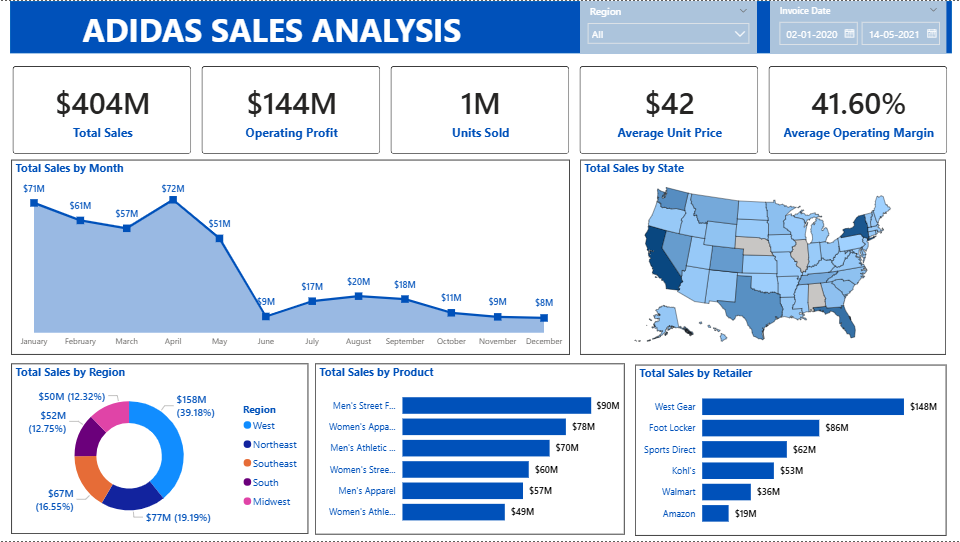

This screenshot's page, from the dashboard's own definition file:
{"tool":"powerbi","page":{"name":"Page 1","canvas":[1280,720],"ordinal":0},"visuals":[{"type":"shape","box":[12.9,0,1255.7,70],"z":0},{"type":"textbox","box":[105.7,2.9,561.4,67.1],"z":1000},{"type":"cardVisual","fields":{"Data":["Sum(Data Sales Adidas.Total Sales)","Sum(Data Sales Adidas.Operating Profit)","Sum(Data Sales Adidas.Units Sold)","Avg(Data Sales Adidas.Price per Unit)","Avg(Data Sales Adidas.Operating Margin)"]},"box":[0,70,1280,151.4],"z":2000},{"type":"areaChart","title":"Total Sales by Month","fields":{"Category":["Data Sales Adidas.Invoice Date.Variation.Date Hierarchy.Month"],"Y":["Sum(Data Sales Adidas.Total Sales)"]},"box":[14.5,211.8,744.5,260],"z":3000},{"type":"shapeMap","title":"Total Sales by State","fields":{"Category":["Data Sales Adidas.State"],"Value":["Sum(Data Sales Adidas.Total Sales)"]},"box":[774,212,488,260],"z":4000},{"type":"donutChart","fields":{"Category":["Data Sales Adidas.Region"],"Y":["Sum(Data Sales Adidas.Total Sales)"]},"box":[14.9,482.6,396.1,227.1],"z":5000},{"type":"barChart","fields":{"Category":["Data Sales Adidas.Product"],"Y":["Sum(Data Sales Adidas.Total Sales)"]},"box":[420.8,482.9,412.5,227.6],"z":6000},{"type":"barChart","fields":{"Y":["Sum(Data Sales Adidas.Total Sales)"],"Category":["Data Sales Adidas.Retailer"]},"box":[847.1,484.2,415.3,227.6],"z":6001},{"type":"slicer","fields":{"Values":["Data Sales Adidas.Region"]},"box":[774.1,0,235.9,70],"z":6002},{"type":"slicer","fields":{"Values":["Data Sales Adidas.Invoice Date"]},"box":[1026.7,0,235.4,70],"z":6003}]}

Visuals, with their boxes in screenshot pixels (x1, y1, x2, y2), scaled from the page's 1280x720 canvas onto the 960x542 screenshot:
shape: [left=10, top=0, right=951, bottom=53]
textbox: [left=79, top=2, right=500, bottom=53]
cardVisual - Sum(Data Sales Adidas.Total Sales) x Sum(Data Sales Adidas.Operating Profit): [left=0, top=53, right=959, bottom=167]
"Total Sales by Month" areaChart: [left=11, top=159, right=569, bottom=355]
"Total Sales by State" shapeMap: [left=580, top=160, right=946, bottom=355]
donutChart - Data Sales Adidas.Region x Sum(Data Sales Adidas.Total Sales): [left=11, top=363, right=308, bottom=534]
barChart - Data Sales Adidas.Product x Sum(Data Sales Adidas.Total Sales): [left=316, top=364, right=625, bottom=535]
barChart - Sum(Data Sales Adidas.Total Sales) x Data Sales Adidas.Retailer: [left=635, top=364, right=947, bottom=536]
slicer - Data Sales Adidas.Region: [left=581, top=0, right=758, bottom=53]
slicer - Data Sales Adidas.Invoice Date: [left=770, top=0, right=947, bottom=53]
